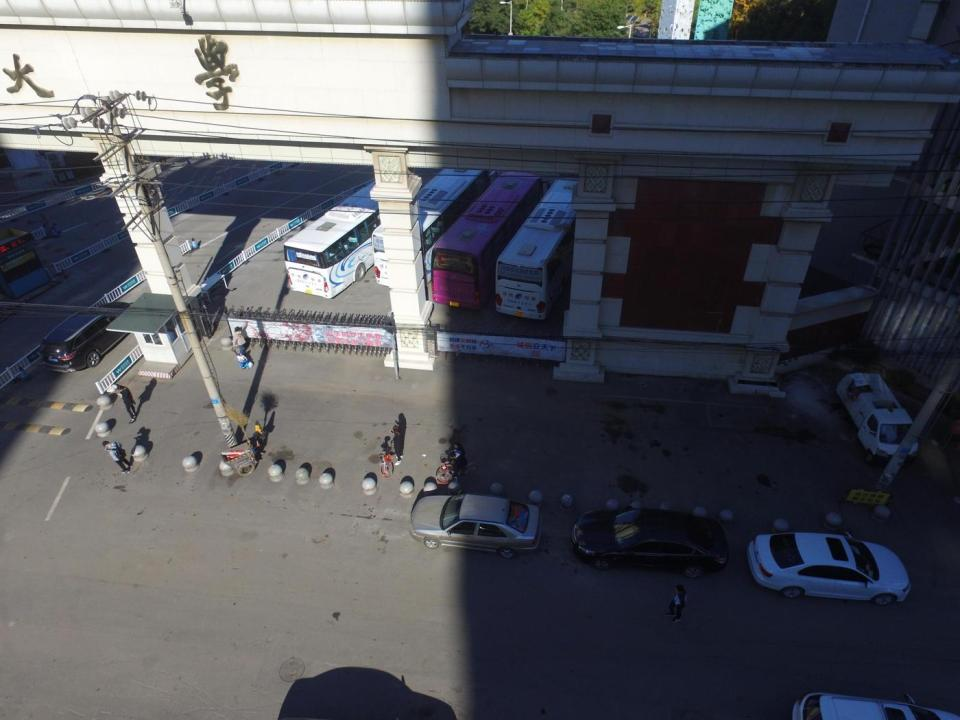bus: (428, 160, 544, 314), (286, 167, 418, 299), (373, 156, 494, 285), (492, 168, 582, 321)
car: (744, 530, 911, 606), (572, 503, 733, 580), (408, 492, 543, 559), (38, 301, 140, 372)
truck: (837, 369, 920, 463)
